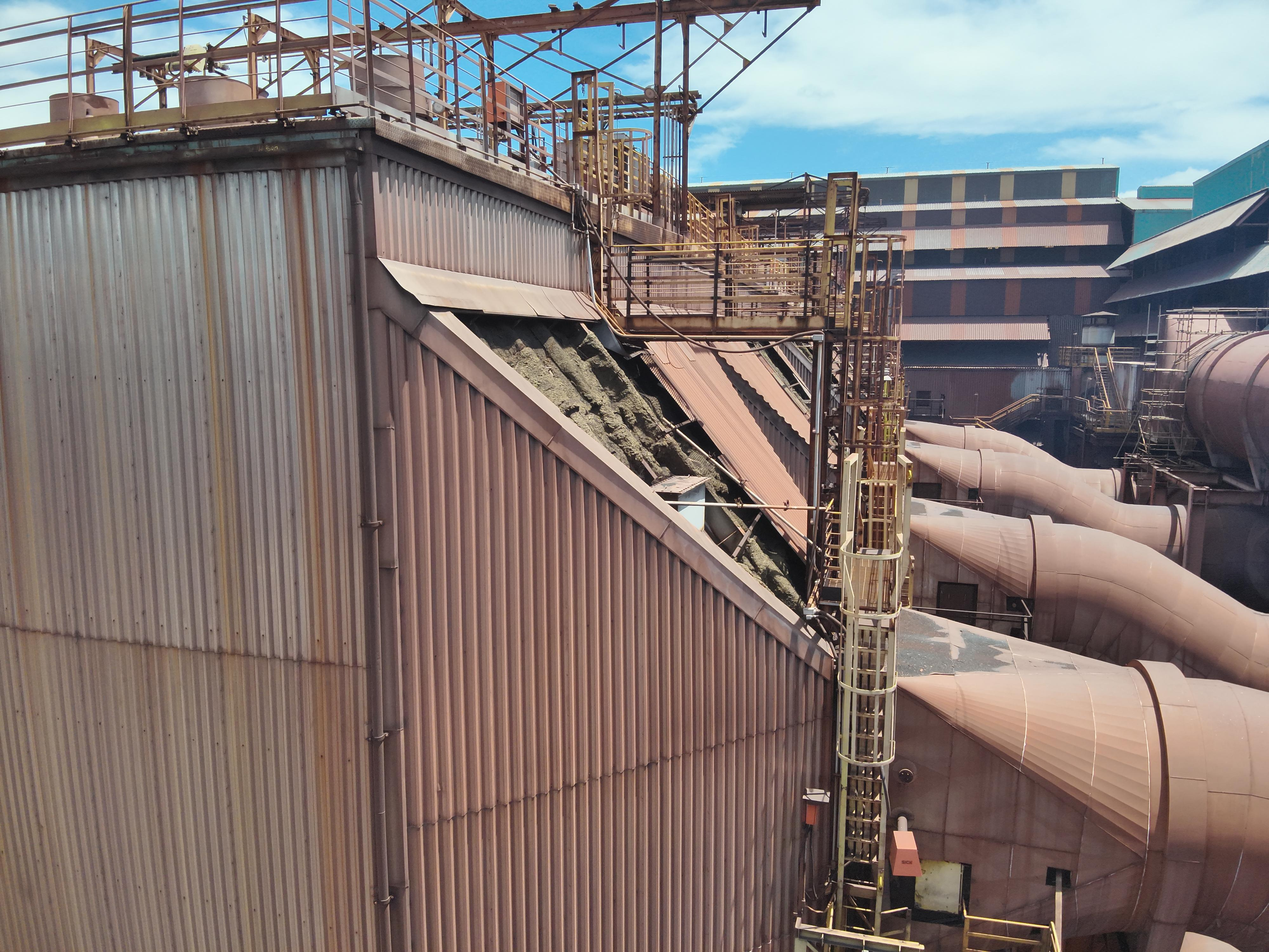Failures: (428, 273, 839, 698)
